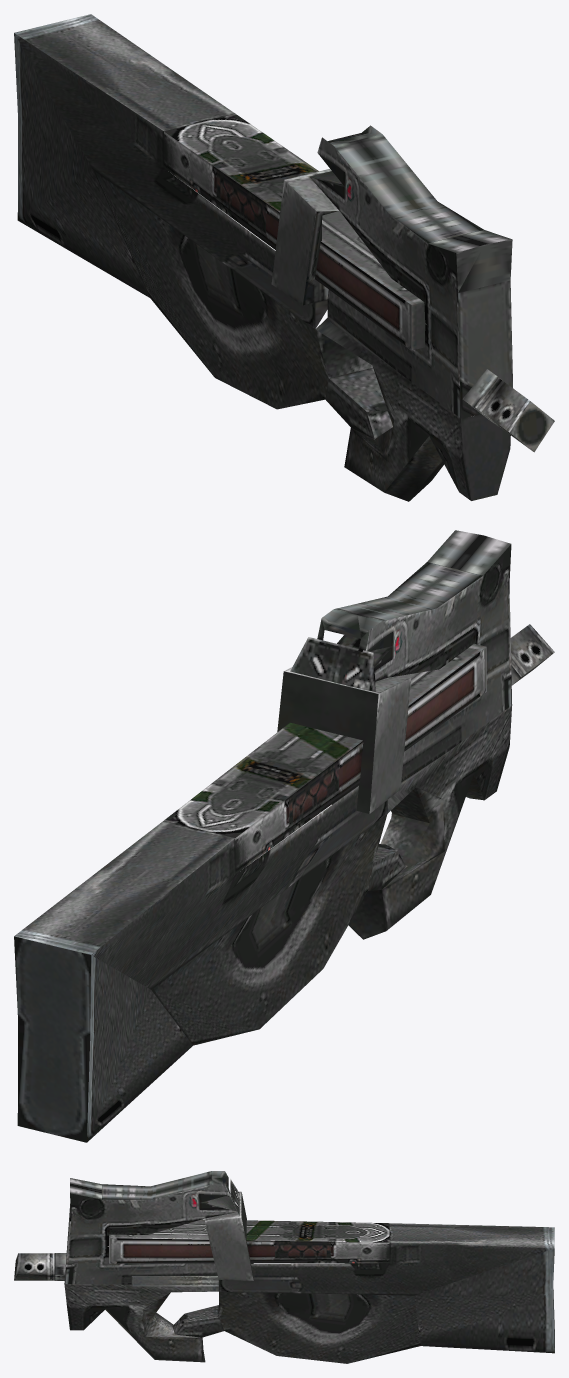
File: SMG_P90_SMG_Body_LOD_(000106).glb
3 renders of one model, top to bottom at view 1: azimuth 30°, elevation 25°; view 2: azimuth 150°, elevation 25°; view 3: azimuth 270°, elevation 25°, orthographic. The views are drawn at different scales.
Parts seen in each view (by area): view 1: SMG_P90_lod2; view 2: SMG_P90_lod2; view 3: SMG_P90_lod2.
Part boxes in pixels (bbox=[...]): SMG_P90_lod2: bbox=[14, 14, 554, 501]; SMG_P90_lod2: bbox=[14, 530, 554, 1142]; SMG_P90_lod2: bbox=[14, 1171, 554, 1363].
Size of the model in its own units: 0.0807 by 0.2575 by 0.6836.
1 material, 1 textured.
